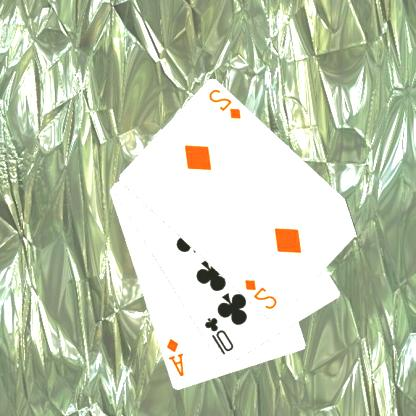10C: (203, 315, 237, 357)
2D: (207, 86, 244, 121), (243, 277, 280, 311)
AD: (165, 336, 187, 378)
